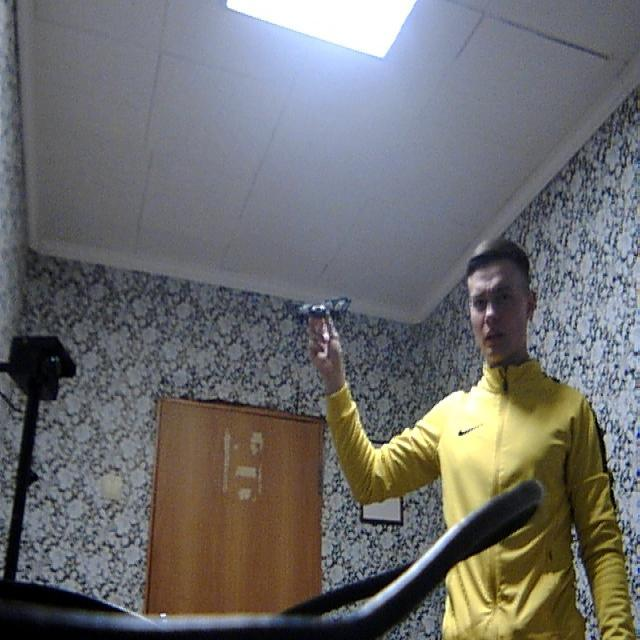drone: (276, 280, 351, 332)
